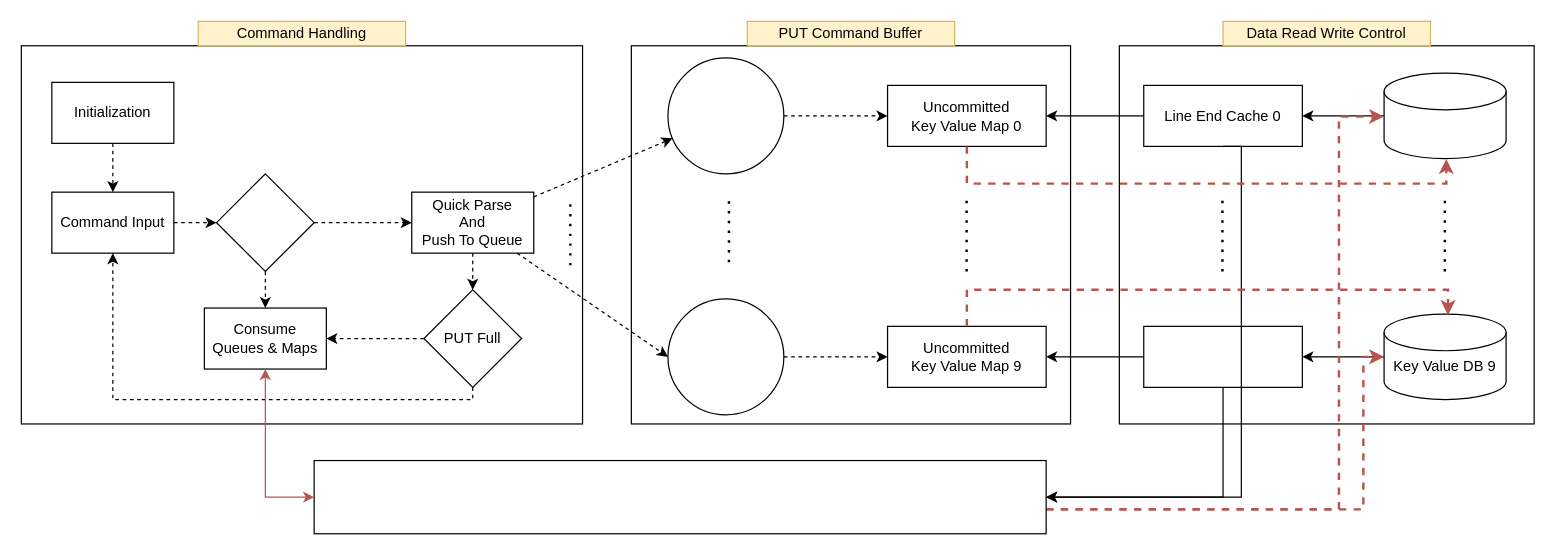
The diagram is 1556 pixels wide and 555 high, and some of its shapes have lost their labels. Each missing label, with the centre of its shape:
"Get Value By Key From DB" belongs at (x=679, y=496).
"Is PUT" belongs at (x=264, y=222).
"Key Value DB 0" belongs at (x=1444, y=115).
"Line End Cache 9" belongs at (x=1222, y=356).
"Quick Parsed PUT Queue 0" belongs at (x=725, y=115).
"Quick Parsed PUT Queue 9" belongs at (x=725, y=356).
